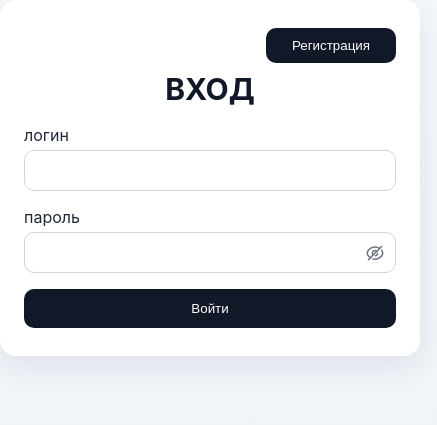
Scenario: Authorization › Unsuccessful
This screenshot has width=437, height=425.
Type "wrong" into the field labelled "логин" at (210,170), box [24, 150, 396, 191]
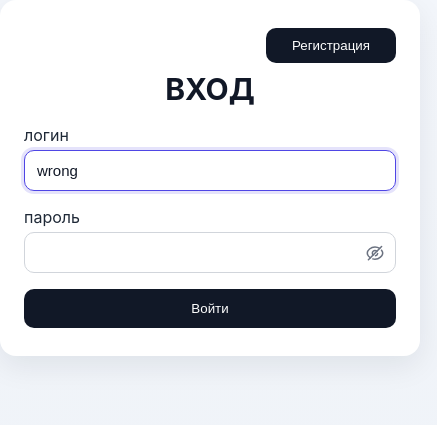
Type "wrong" into the password field labelled "пароль" at (210,252), box [24, 232, 396, 273]
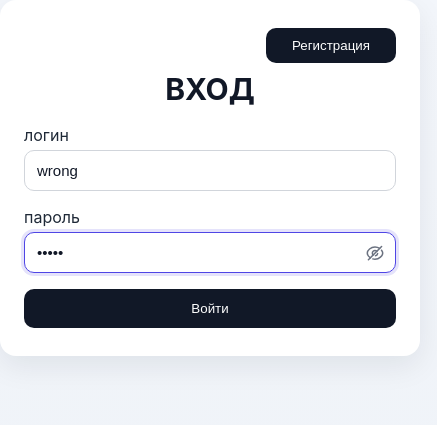
Click the button "Войти" at (210,308), box [24, 289, 396, 328]
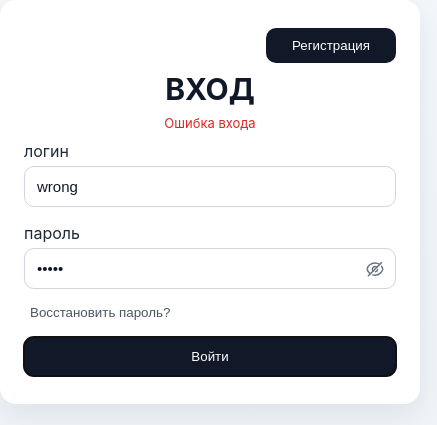
Expected: the text "Ошибка входа" is shown, [164, 115, 256, 131]
